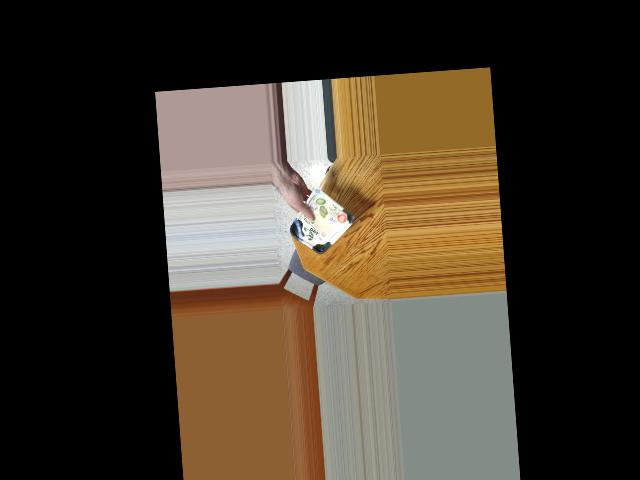cheese: (291, 205, 350, 247)
